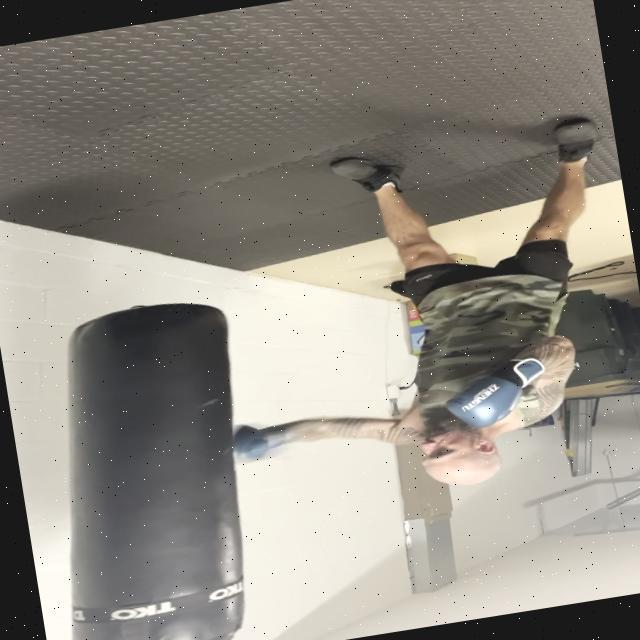bag: (55, 289, 266, 640)
jab: (190, 298, 612, 552)
